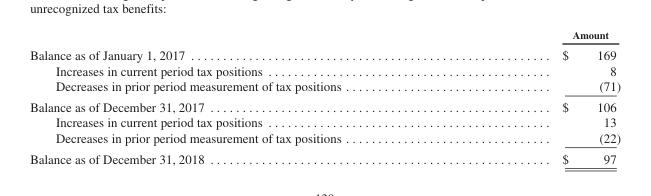table: (29, 28, 619, 165)
table column: (29, 28, 451, 165), (451, 28, 619, 165)
table column header: (29, 28, 619, 44)
table row: (29, 44, 619, 62), (29, 78, 619, 96), (29, 96, 619, 114), (29, 129, 619, 147), (29, 147, 619, 165), (29, 28, 619, 44), (29, 62, 619, 78), (29, 114, 619, 129)
